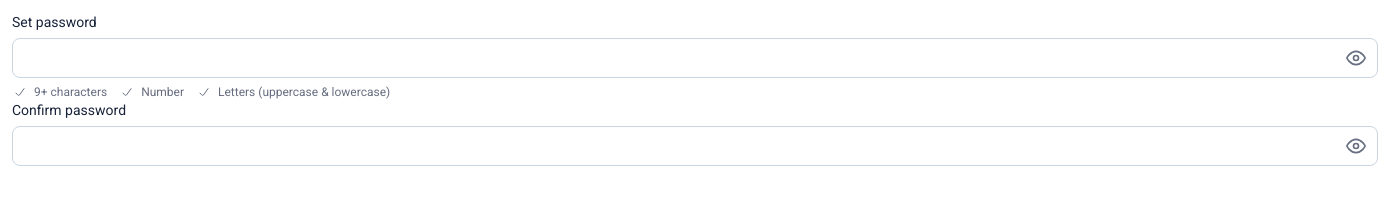
Test case: PasswordField › spells out a password mismatch, which no checklist covers
Type "Password1" into the password field labelled "Set password" at point(695, 58), box x1=12 y1=38 x2=1378 y2=78
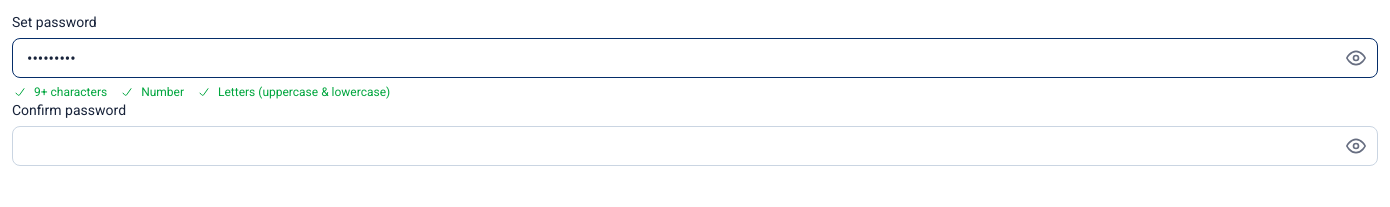
Type "Password2" into the password field labelled "Confirm password" at point(695, 146), box x1=12 y1=126 x2=1378 y2=166
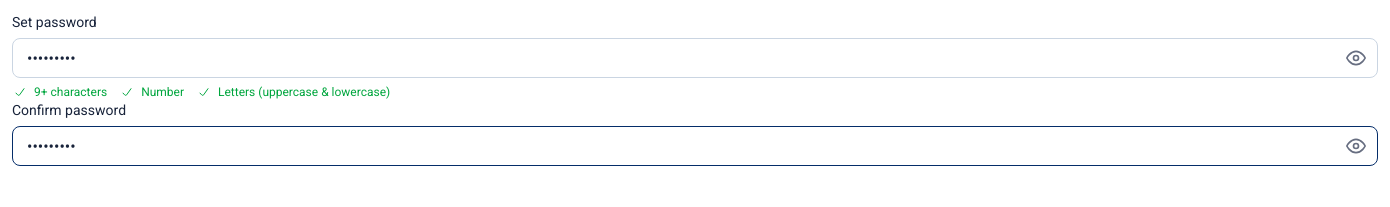
Press Tab
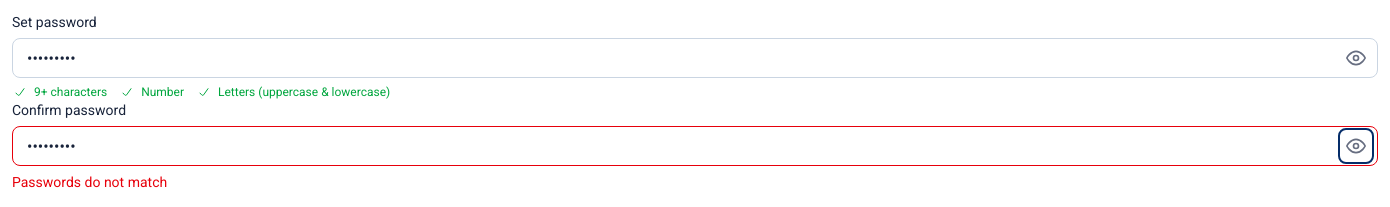
Expected: the text "Passwords do not match" is shown, x1=12 y1=174 x2=167 y2=190
